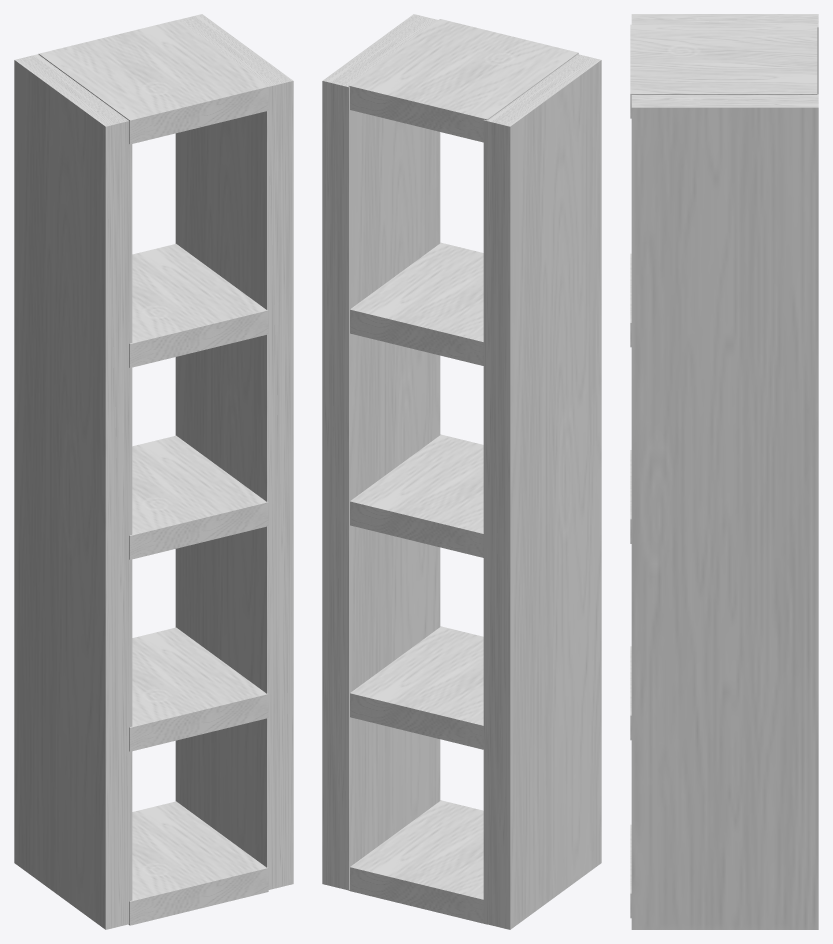
The model's file is librero.obj.
3 views of the same model, side by side, from view 1: azimuth 30°, elevation 25°; view 2: azimuth 150°, elevation 25°; view 3: azimuth 270°, elevation 25° (orthographic). The views are drawn at different scales.
Visible parts, largest first — view 1: pasted__pCube2 group, pCube2, pasted__pasted__pasted__pasted__pCube3 pasted__pasted__pasted__g, pCube3, pasted__pCube3 group1, pasted__pasted__pCube3 pasted__group1 group2, pasted__pasted__pasted__pCube3 pasted__pasted__group1 pasted__gr; view 2: pasted__pCube2 group, pCube2, pasted__pasted__pasted__pasted__pCube3 pasted__pasted__pasted__g, pCube3, pasted__pCube3 group1, pasted__pasted__pasted__pCube3 pasted__pasted__group1 pasted__gr, pasted__pasted__pCube3 pasted__group1 group2; view 3: pCube2, pasted__pasted__pasted__pasted__pCube3 pasted__pasted__pasted__g, pasted__pCube2 group.
Boxes of the visible parts, left/top/right/bottom form: pasted__pCube2 group: left=14, top=54, right=132, bottom=929; pCube2: left=175, top=14, right=293, bottom=889; pasted__pasted__pasted__pasted__pCube3 pasted__pasted__pasted__g: left=38, top=20, right=268, bottom=144; pCube3: left=128, top=801, right=268, bottom=925; pasted__pCube3 group1: left=129, top=627, right=268, bottom=751; pasted__pasted__pCube3 pasted__group1 group2: left=129, top=435, right=268, bottom=559; pasted__pasted__pasted__pCube3 pasted__pasted__group1 pasted__gr: left=129, top=244, right=268, bottom=367; pasted__pCube2 group: left=483, top=54, right=601, bottom=929; pCube2: left=322, top=14, right=440, bottom=890; pasted__pasted__pasted__pasted__pCube3 pasted__pasted__pasted__g: left=348, top=19, right=578, bottom=142; pCube3: left=349, top=800, right=487, bottom=924; pasted__pCube3 group1: left=350, top=626, right=483, bottom=749; pasted__pasted__pasted__pCube3 pasted__pasted__group1 pasted__gr: left=350, top=242, right=483, bottom=365; pasted__pasted__pCube3 pasted__group1 group2: left=350, top=434, right=483, bottom=557; pCube2: left=631, top=94, right=818, bottom=929; pasted__pasted__pasted__pasted__pCube3 pasted__pasted__pasted__g: left=630, top=24, right=817, bottom=118; pasted__pCube2 group: left=631, top=14, right=818, bottom=94.
Bounding box in the file's own units: 1.02 × 4.2 × 0.8698.
1 material, 1 textured.
